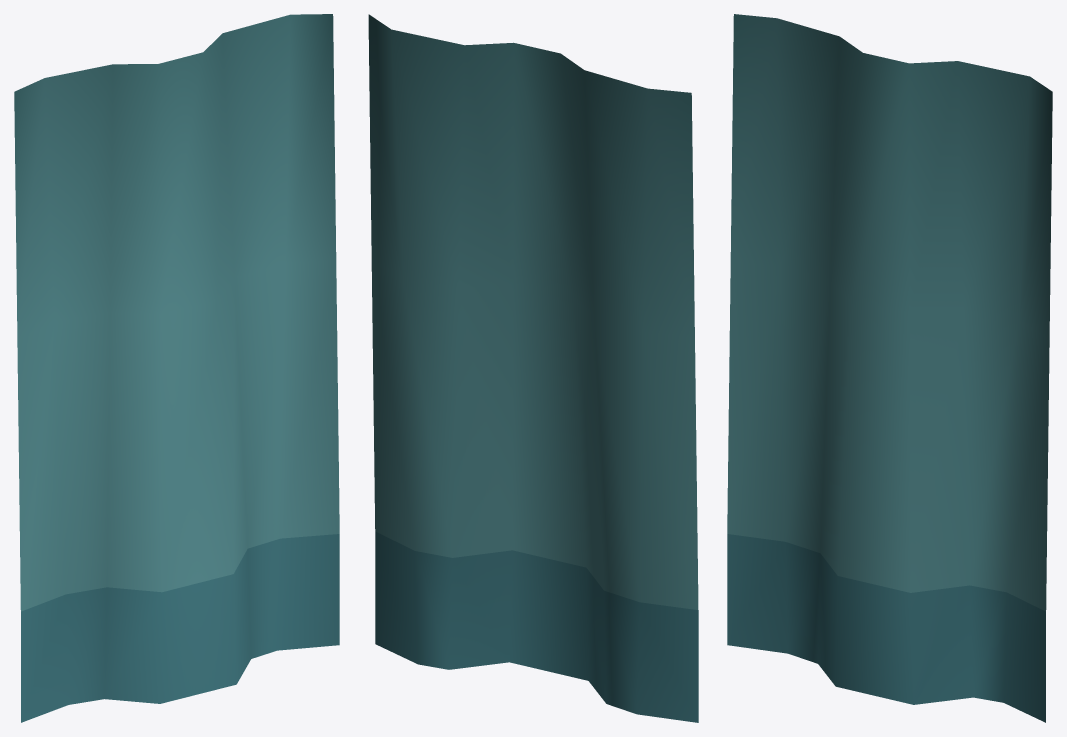
Rendered from ClosetBuildingCurtain.glb.
3 renders of one model, left to right at view 1: azimuth 30°, elevation 25°; view 2: azimuth 150°, elevation 25°; view 3: azimuth 330°, elevation 25°, orthographic.
Parts seen in each view (by area): view 1: ClosetBuildingCurtain; view 2: ClosetBuildingCurtain; view 3: ClosetBuildingCurtain.
Boxes of the visible parts, left/top/right/bottom form: ClosetBuildingCurtain: left=14, top=14, right=339, bottom=722; ClosetBuildingCurtain: left=368, top=14, right=698, bottom=722; ClosetBuildingCurtain: left=727, top=14, right=1052, bottom=722.
Bounding box in the file's own units: 0.8324 × 1.56 × 0.1447.
